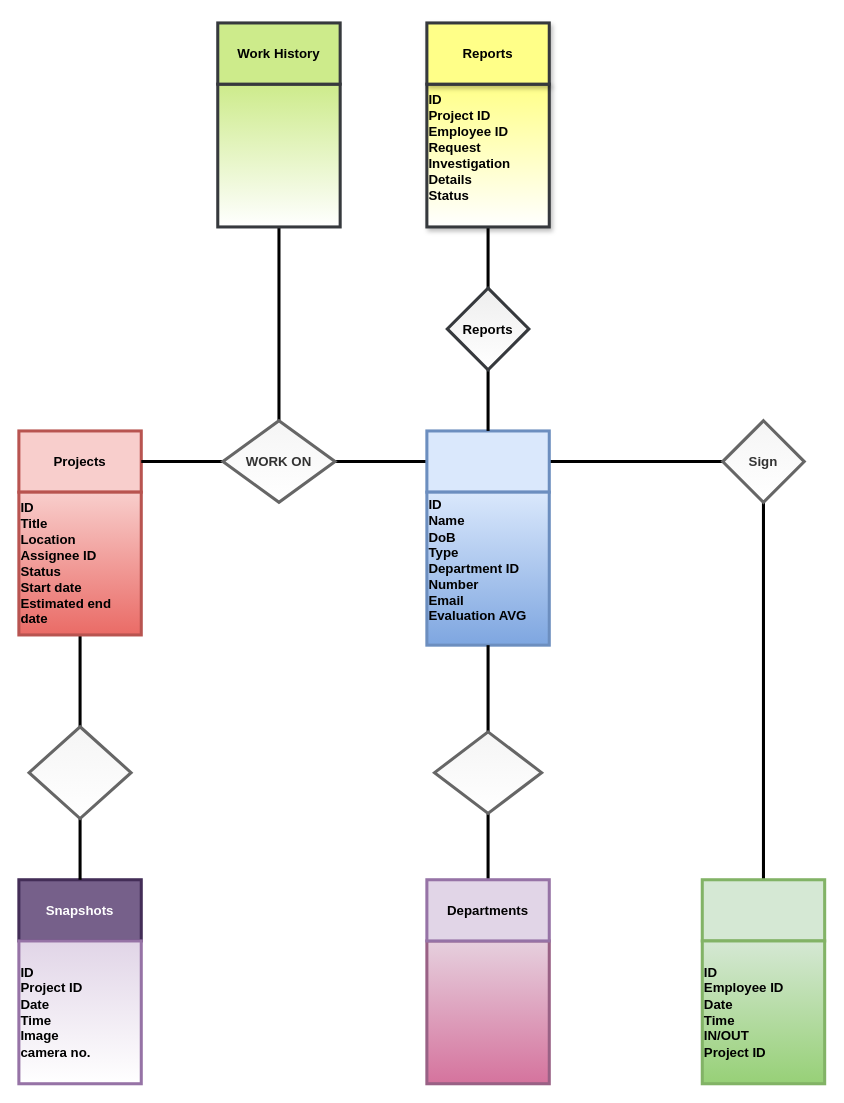
This 844x1103 diagram has some shape labels left out. Here are the shapes that lost their labels. From the top down, the centre of each, then its label:
(x=278, y=155): ID Employee ID Project ID Start date End date Evaluation Details
(x=487, y=461): Employees
(x=79, y=772): FOR
(x=487, y=772): WORK IN
(x=763, y=910): LOGS
(x=487, y=1012): ID Manager Details
